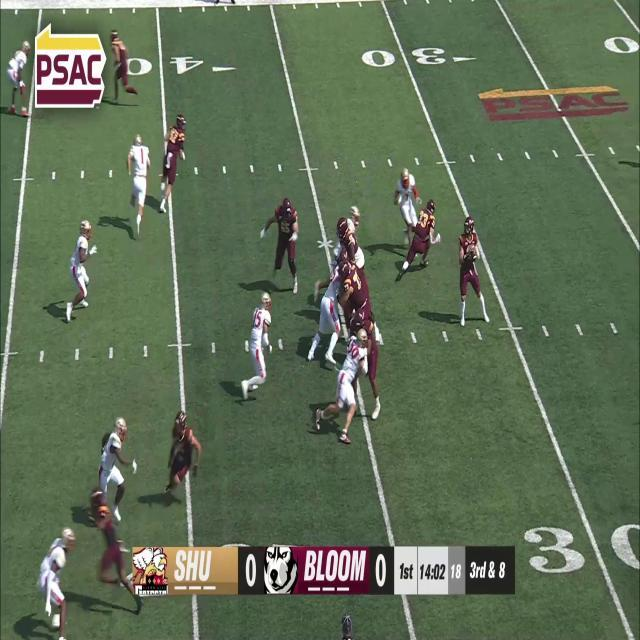football: (470, 244, 480, 262)
